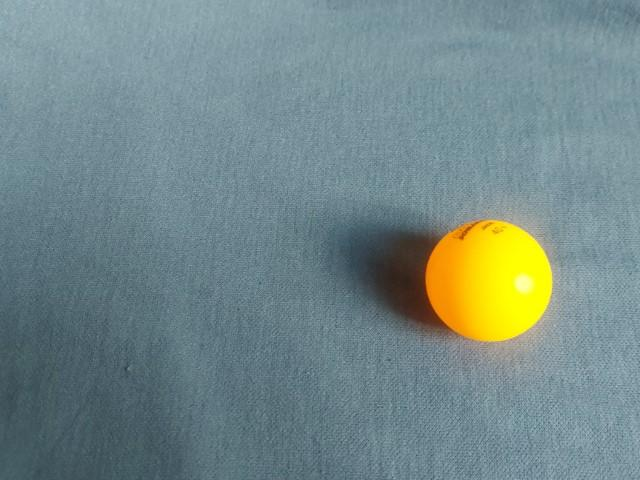oball: (418, 212, 560, 347)
